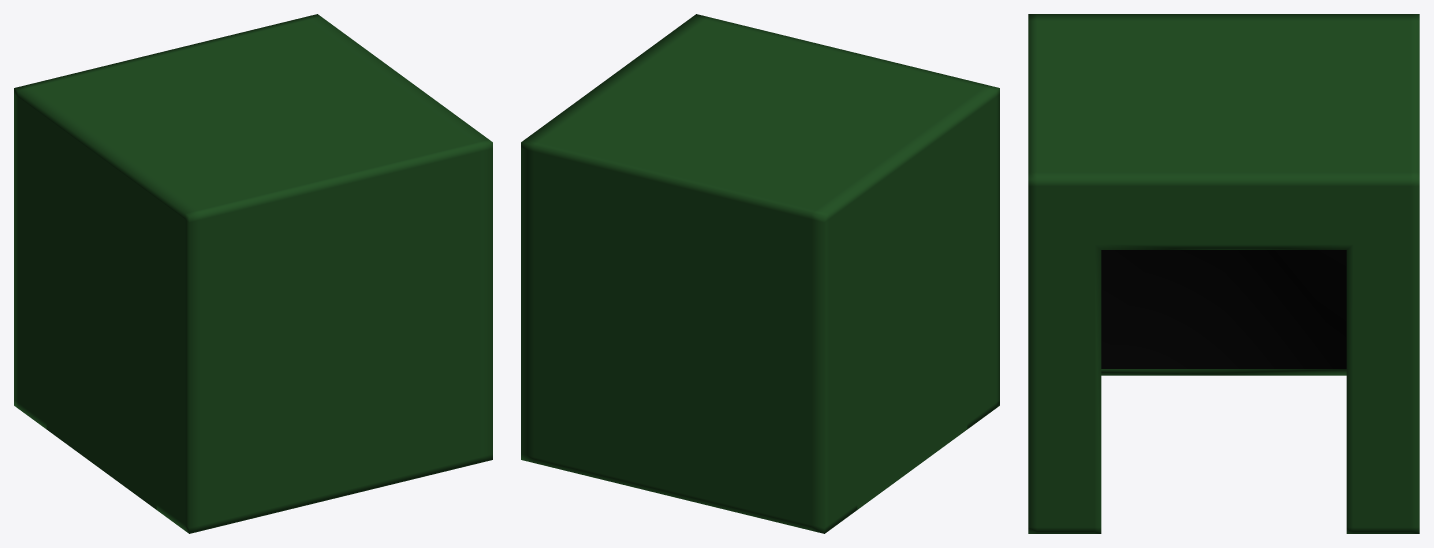
The model's file is entrance.fbx.
The picture shows the model from 3 angles, left to right: view 1: azimuth 30°, elevation 25°; view 2: azimuth 150°, elevation 25°; view 3: azimuth 270°, elevation 25°; orthographic projection. The views are drawn at different scales.
Parts seen in each view (by area): view 1: Cube.002; view 2: Cube.002; view 3: Cube.002.
Part boxes in pixels (<box>): Cube.002: <box>14,14,492,533</box>; Cube.002: <box>521,14,999,533</box>; Cube.002: <box>1028,14,1419,533</box>.
Bounding box in the file's own units: 200 × 200 × 200.
